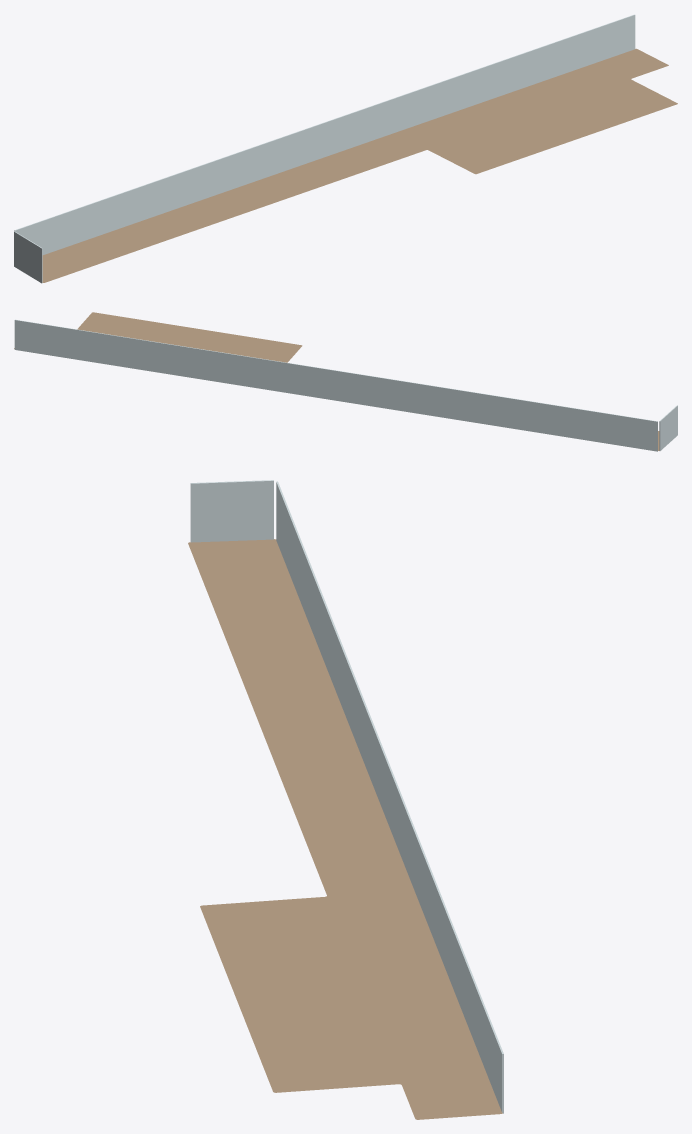
The model's file is deck-5.glb.
3 views of the same model, one above another, from view 1: azimuth 30°, elevation 25°; view 2: azimuth 150°, elevation 25°; view 3: azimuth 270°, elevation 25° (orthographic). The views are drawn at different scales.
Parts seen in each view (by area): view 1: decks; view 2: decks; view 3: decks.
Boxes of the visible parts, x1,y1,x2,y2 form: decks: [14, 14, 677, 283]; decks: [14, 312, 677, 451]; decks: [188, 480, 503, 1119].
Bounding box in the file's own units: 22.92 × 1.1 × 5.26.
